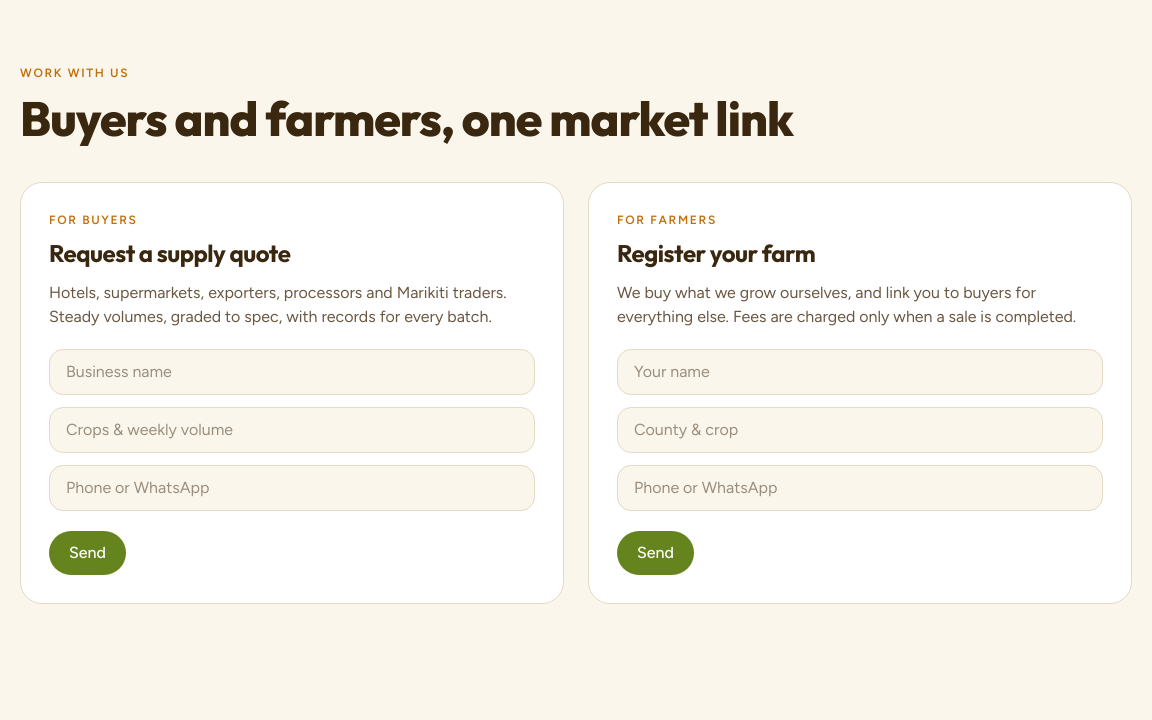
Test: Work with us › rejects a bad phone number and saves nothing
Type "Wanjiku" into the field with placeholder "Your name" at point(860, 372), box [617,349,1103,395]
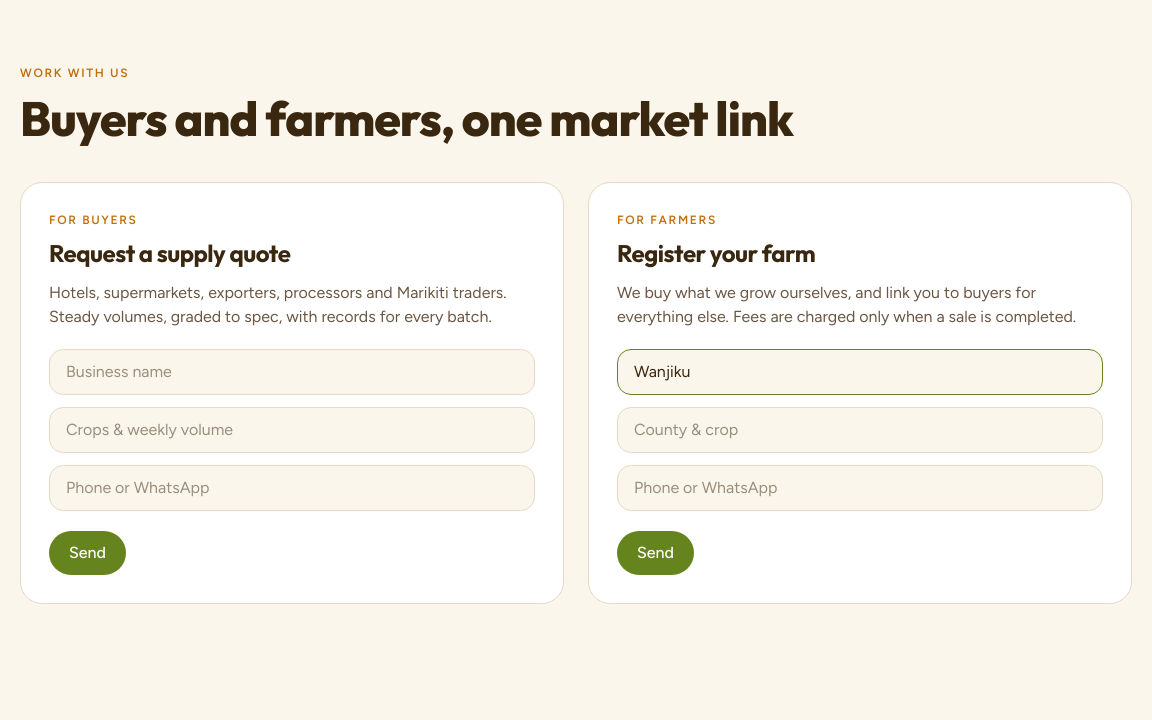
Type "Nyeri, chillies" into the field with placeholder "County & crop" at point(860, 430), box [617,407,1103,453]
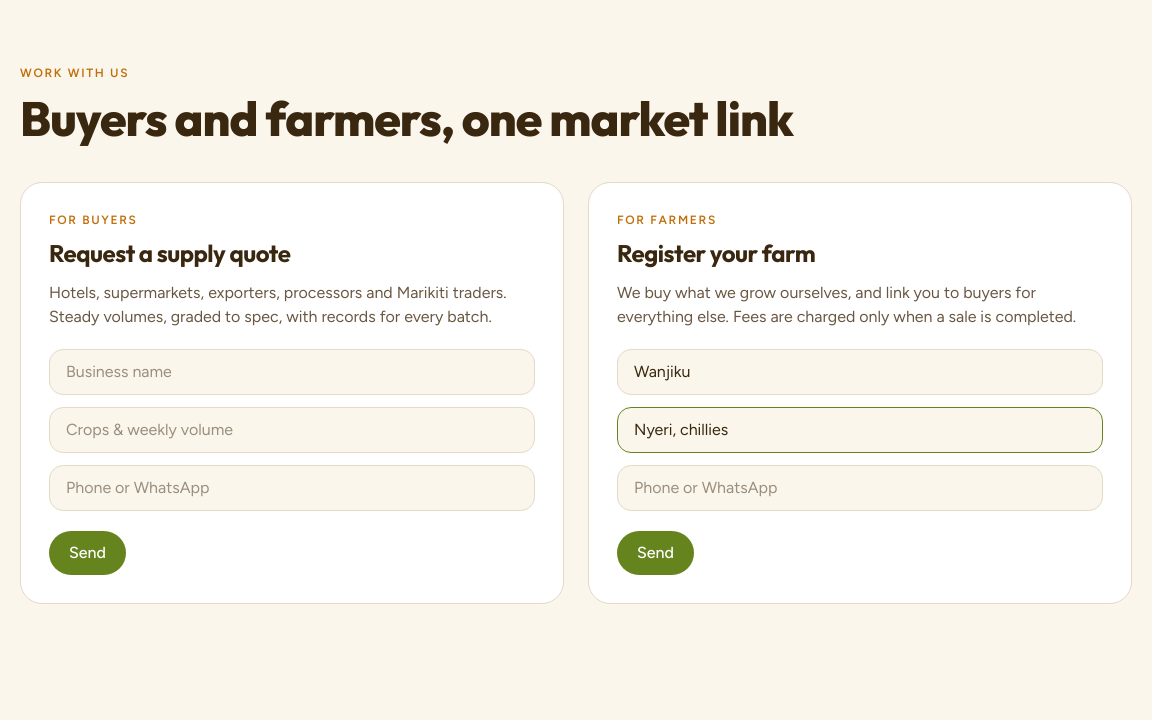
Type "123" into the field with placeholder "Phone or WhatsApp" below "Register your farm" at point(860, 488), box [617,465,1103,511]
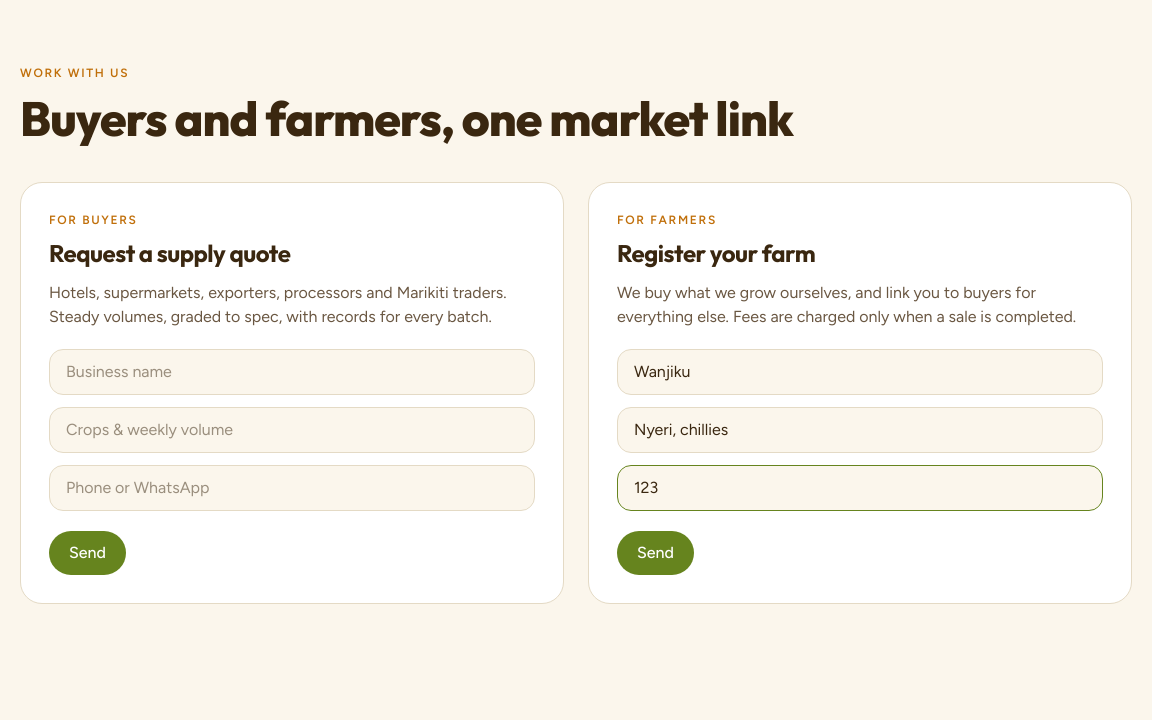
Click the button "Send" below "Register your farm" at point(656, 553), box [617,531,694,575]
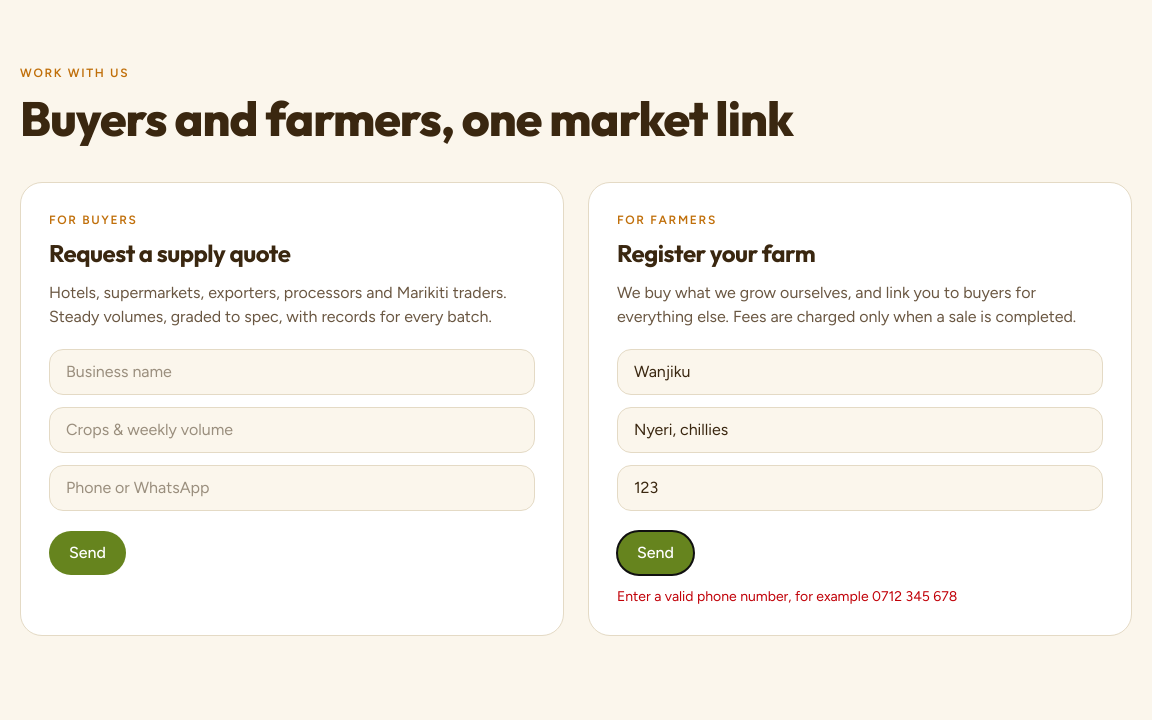
Now the text "Enter a valid phone number, for example 0712 345 678" is shown, box [617,588,957,605]
